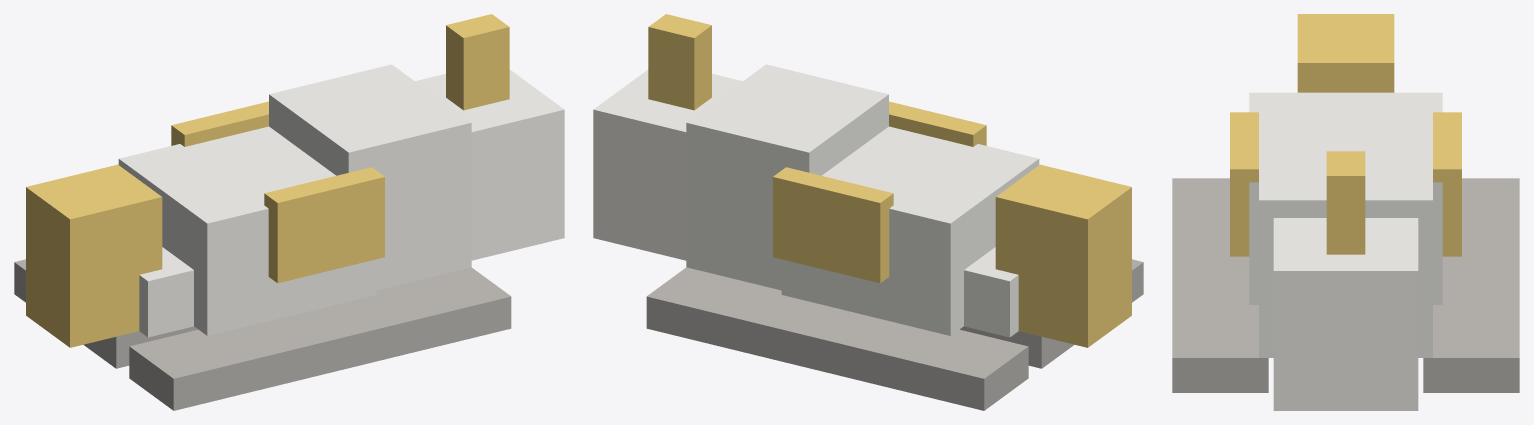
The model's file is 36-Fauna_gallina.glb.
3 views of the same model, side by side, from view 1: azimuth 30°, elevation 25°; view 2: azimuth 150°, elevation 25°; view 3: azimuth 270°, elevation 25° (orthographic). The views are drawn at different scales.
Parts seen in each view (by area): view 1: SM_Gallina_Cuerpo_NOFUNDIR, SM_Gallina_Apendices_NOFUNDIR, SM_Gallina_Rodela_NOFUNDIR, SM_Gallina_Cabeza_NOFUNDIR; view 2: SM_Gallina_Cuerpo_NOFUNDIR, SM_Gallina_Apendices_NOFUNDIR, SM_Gallina_Rodela_NOFUNDIR, SM_Gallina_Cabeza_NOFUNDIR; view 3: SM_Gallina_Rodela_NOFUNDIR, SM_Gallina_Cabeza_NOFUNDIR, SM_Gallina_Cuerpo_NOFUNDIR, SM_Gallina_Apendices_NOFUNDIR.
Boxes of the visible parts, bbox=[...] form: SM_Gallina_Cuerpo_NOFUNDIR: bbox=[118, 64, 471, 337]; SM_Gallina_Apendices_NOFUNDIR: bbox=[26, 14, 509, 347]; SM_Gallina_Rodela_NOFUNDIR: bbox=[14, 259, 511, 410]; SM_Gallina_Cabeza_NOFUNDIR: bbox=[415, 69, 564, 260]; SM_Gallina_Cuerpo_NOFUNDIR: bbox=[686, 64, 1039, 337]; SM_Gallina_Apendices_NOFUNDIR: bbox=[648, 14, 1131, 347]; SM_Gallina_Rodela_NOFUNDIR: bbox=[646, 259, 1143, 410]; SM_Gallina_Cabeza_NOFUNDIR: bbox=[593, 69, 742, 260]; SM_Gallina_Rodela_NOFUNDIR: bbox=[1172, 178, 1519, 392]; SM_Gallina_Cabeza_NOFUNDIR: bbox=[1273, 218, 1418, 410]; SM_Gallina_Cuerpo_NOFUNDIR: bbox=[1249, 92, 1442, 357]; SM_Gallina_Apendices_NOFUNDIR: bbox=[1230, 14, 1461, 256].
Bounding box in the file's own units: 0.63 × 0.29 × 0.36.
